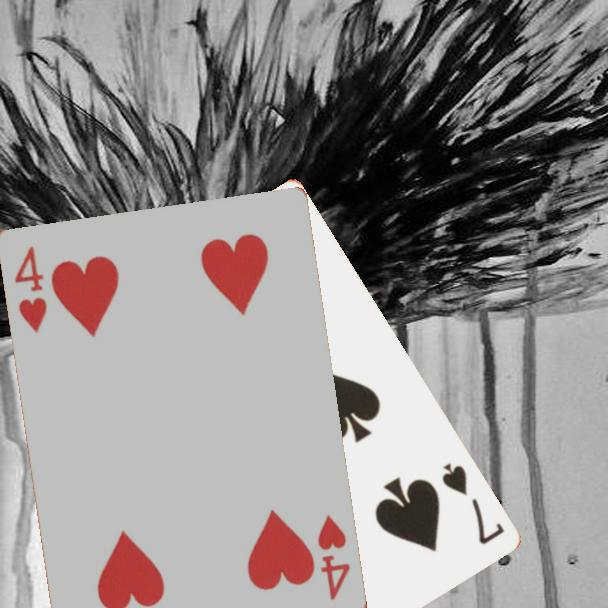h04: (12, 243, 51, 337), (315, 511, 354, 604)
s07: (437, 459, 507, 548)
